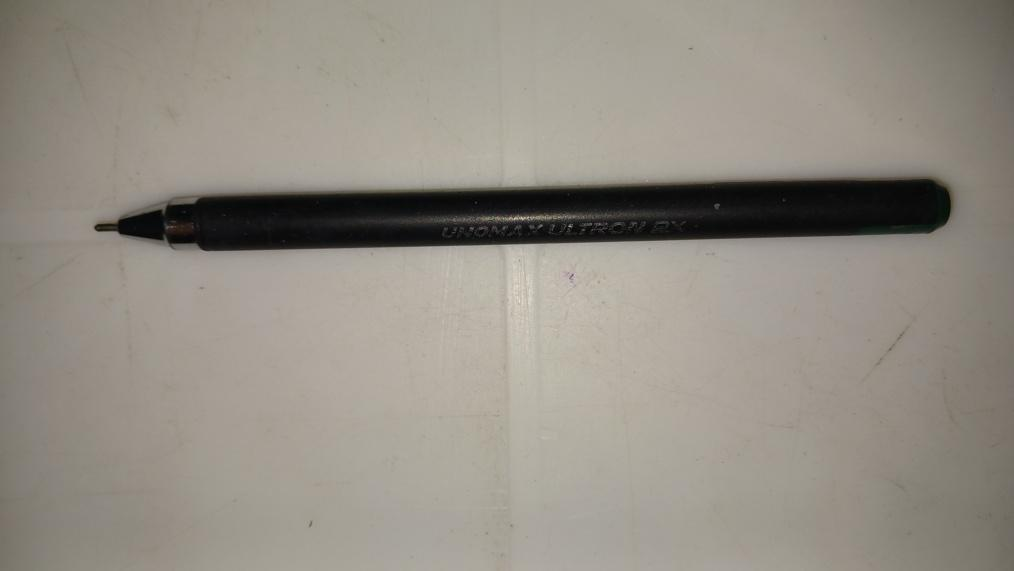pen: (88, 179, 952, 252)
